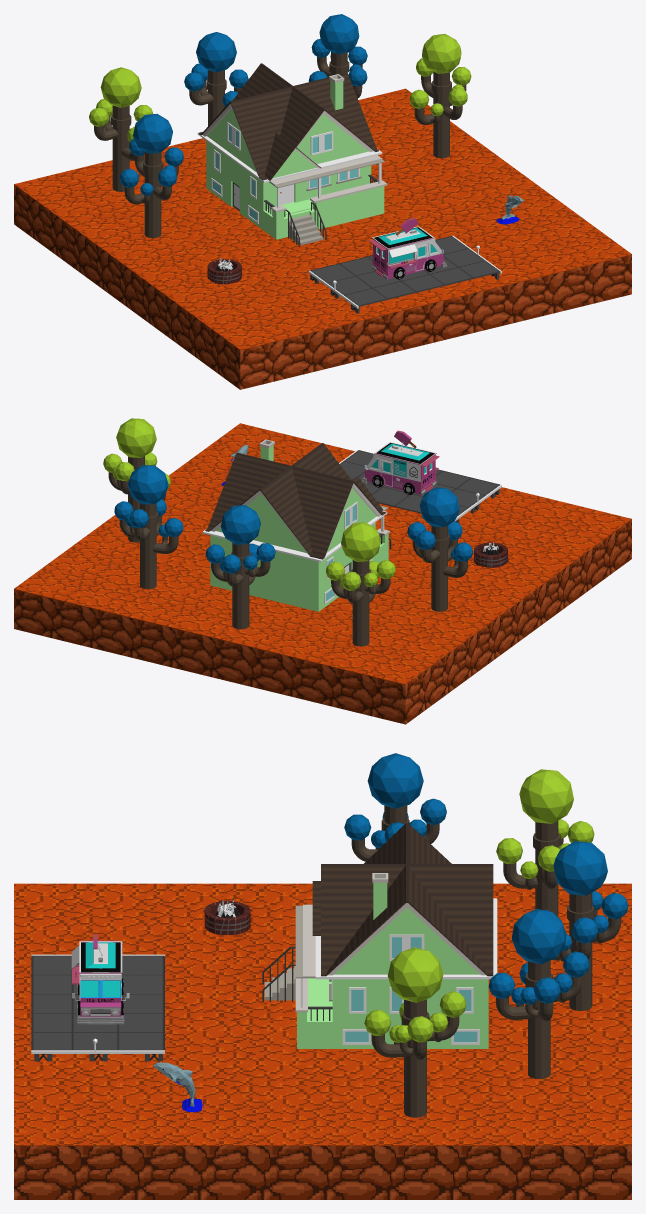
The picture shows the model from 3 angles, top to bottom: view 1: azimuth 30°, elevation 25°; view 2: azimuth 150°, elevation 25°; view 3: azimuth 270°, elevation 25°; orthographic projection. The views are drawn at different scales.
Parts seen in each view (by area): view 1: Cube.001, Cube.274, VEHICLES_ICE_CREAM_TRUCK, OBJRANDOM_CAMPFIRE; view 2: Cube.001, Cube.274, VEHICLES_ICE_CREAM_TRUCK, OBJRANDOM_CAMPFIRE; view 3: Cube.001, Cube.274, VEHICLES_ICE_CREAM_TRUCK, OBJRANDOM_CAMPFIRE, ANIMAL_DELFIN.
Part boxes in pixels (<box>): Cube.001: <box>14,14,631,389</box>; Cube.274: <box>197,63,387,246</box>; VEHICLES_ICE_CREAM_TRUCK: <box>369,218,447,279</box>; OBJRANDOM_CAMPFIRE: <box>207,257,241,284</box>; Cube.001: <box>14,418,631,724</box>; Cube.274: <box>202,439,391,611</box>; VEHICLES_ICE_CREAM_TRUCK: <box>361,430,439,494</box>; OBJRANDOM_CAMPFIRE: <box>473,541,508,567</box>; Cube.001: <box>14,753,631,1199</box>; Cube.274: <box>262,823,497,1048</box>; VEHICLES_ICE_CREAM_TRUCK: <box>71,934,129,1024</box>; OBJRANDOM_CAMPFIRE: <box>204,896,250,934</box>; ANIMAL_DELFIN: <box>153,1062,204,1112</box>.
Size of the model in its own units: 4000 by 1642 by 4000.
45 materials, 4 textured.
